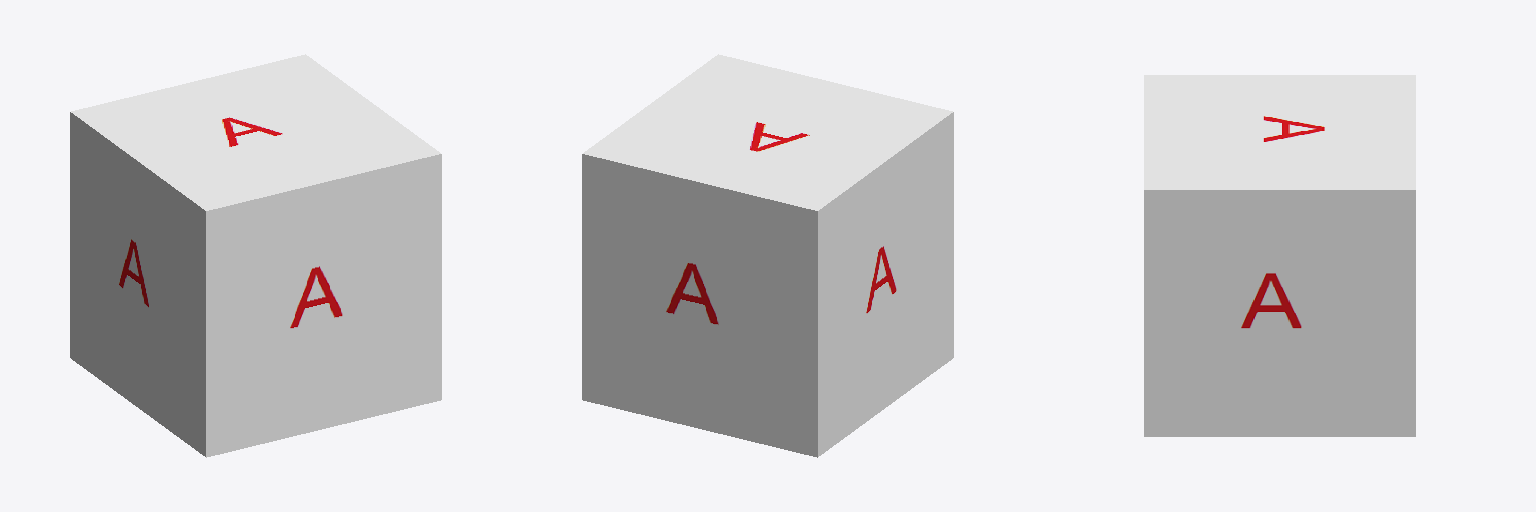
The picture shows the model from 3 angles: view 1: azimuth 30°, elevation 25°; view 2: azimuth 150°, elevation 25°; view 3: azimuth 270°, elevation 25°; orthographic projection.
Parts seen in each view (by area): view 1: Box001; view 2: Box001; view 3: Box001.
Part boxes in pixels (x1,y1,x2,y2): Box001: (70,54,441,457); Box001: (582,54,953,457); Box001: (1144,75,1415,436).
Size of the model in its own units: 40 by 40 by 40.
Materials: 1 (1 with a texture image).